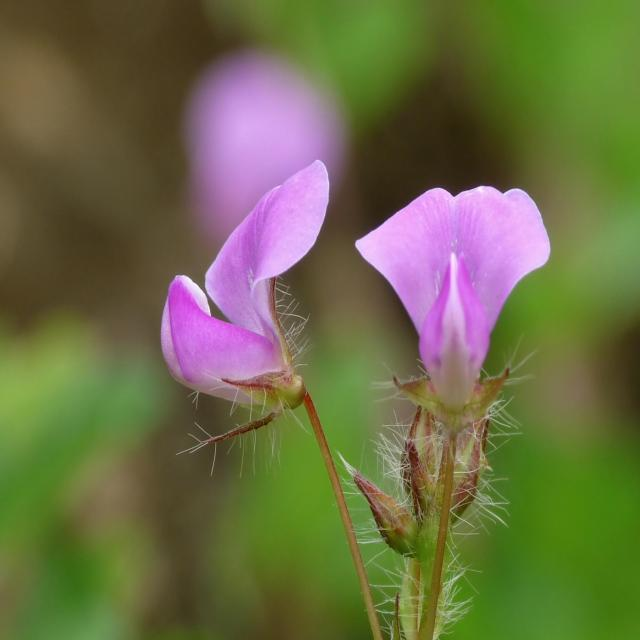organic waste: (341, 172, 553, 428), (151, 152, 334, 421)
